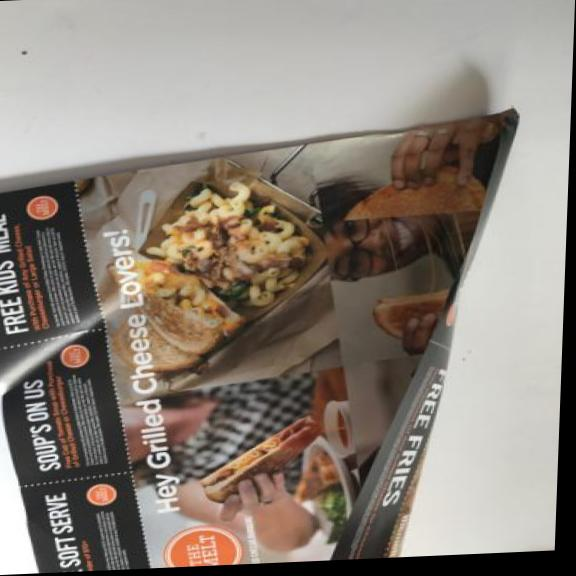Kertas: (0, 101, 525, 575)
